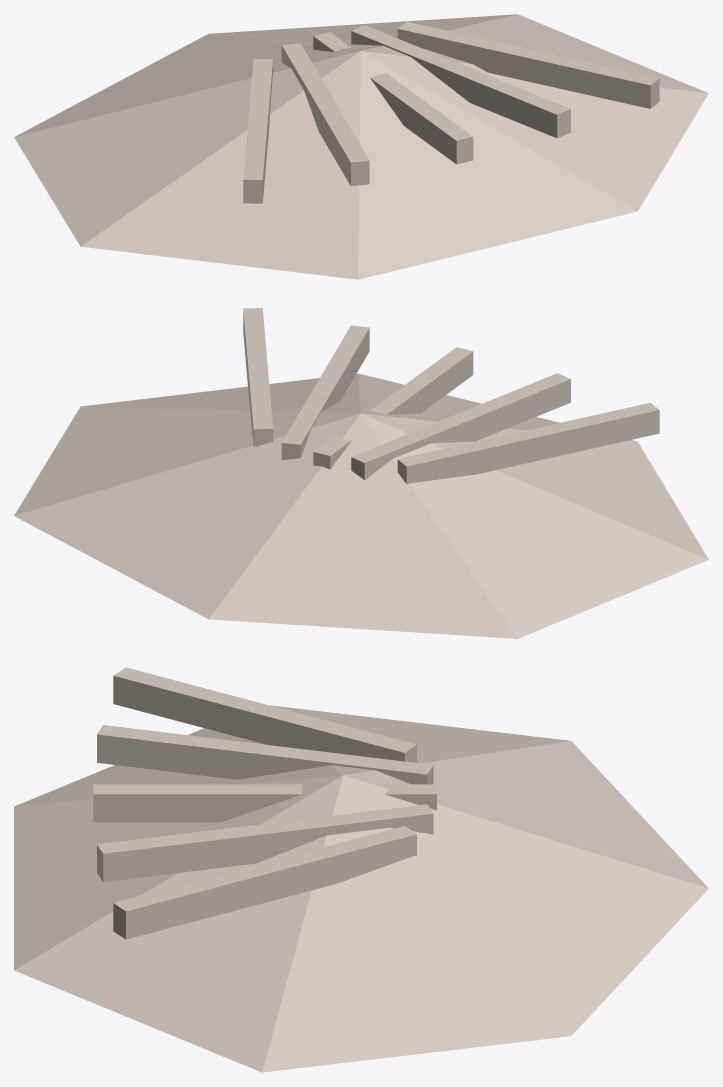
The model's file is shell_white.glb.
3 views of the same model, one above another, from view 1: azimuth 30°, elevation 25°; view 2: azimuth 150°, elevation 25°; view 3: azimuth 270°, elevation 25° (orthographic). The views are drawn at different scales.
Visible parts, largest first — view 1: shell_white; view 2: shell_white; view 3: shell_white.
Part boxes in pixels (<box>): shell_white: <box>14,14,708,279</box>; shell_white: <box>14,308,708,638</box>; shell_white: <box>14,667,708,1072</box>.
Bounding box in the file's own units: 0.5577 × 0.08 × 0.4448.
